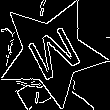M_SE: (19, 19, 84, 86)
